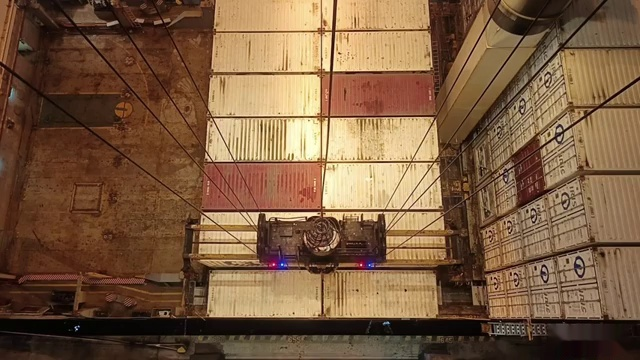container: (197, 210, 446, 270), (199, 162, 443, 209), (207, 271, 439, 319), (203, 117, 441, 161), (207, 73, 438, 117), (211, 31, 433, 73)
guide_mark: (62, 345, 561, 360), (96, 346, 541, 358)
spreader: (177, 208, 466, 273)
target_slot: (195, 211, 447, 270)
